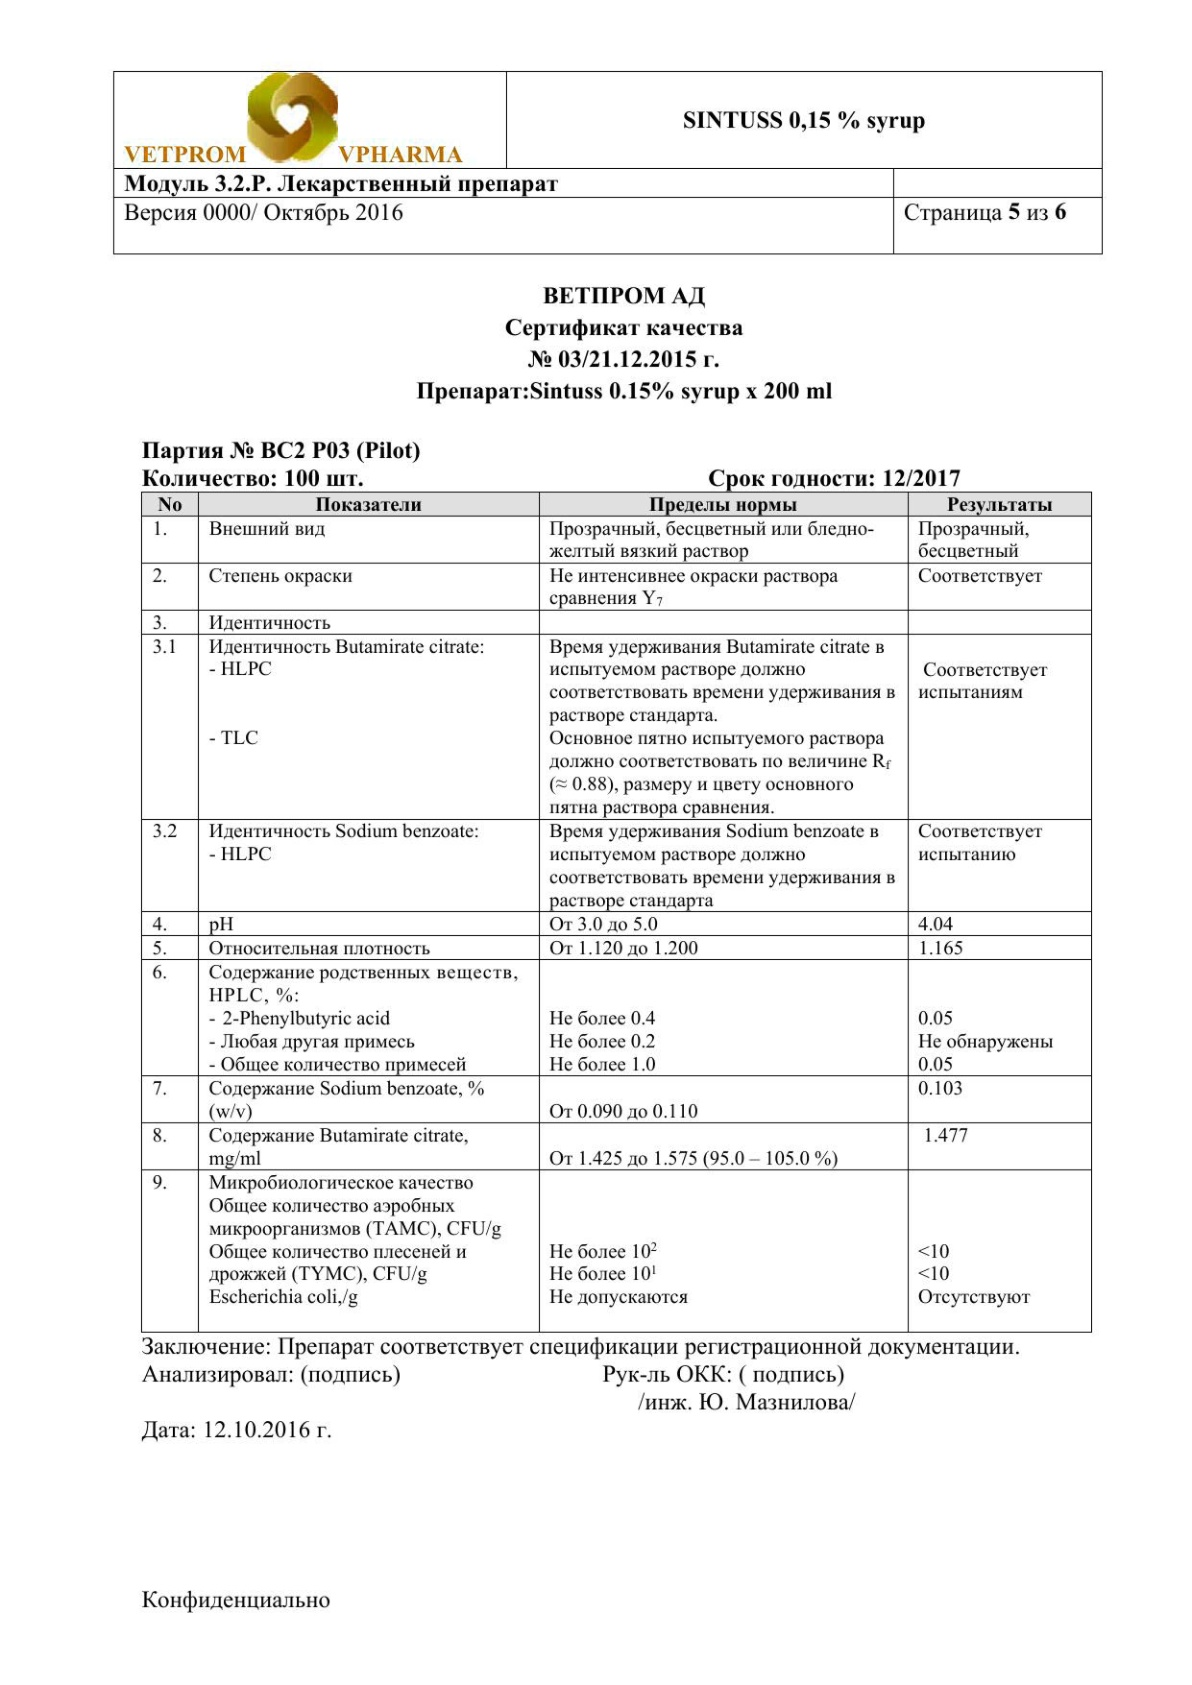full_lined: (141, 492, 1093, 1333)
merged_cells: (112, 71, 1103, 255)
